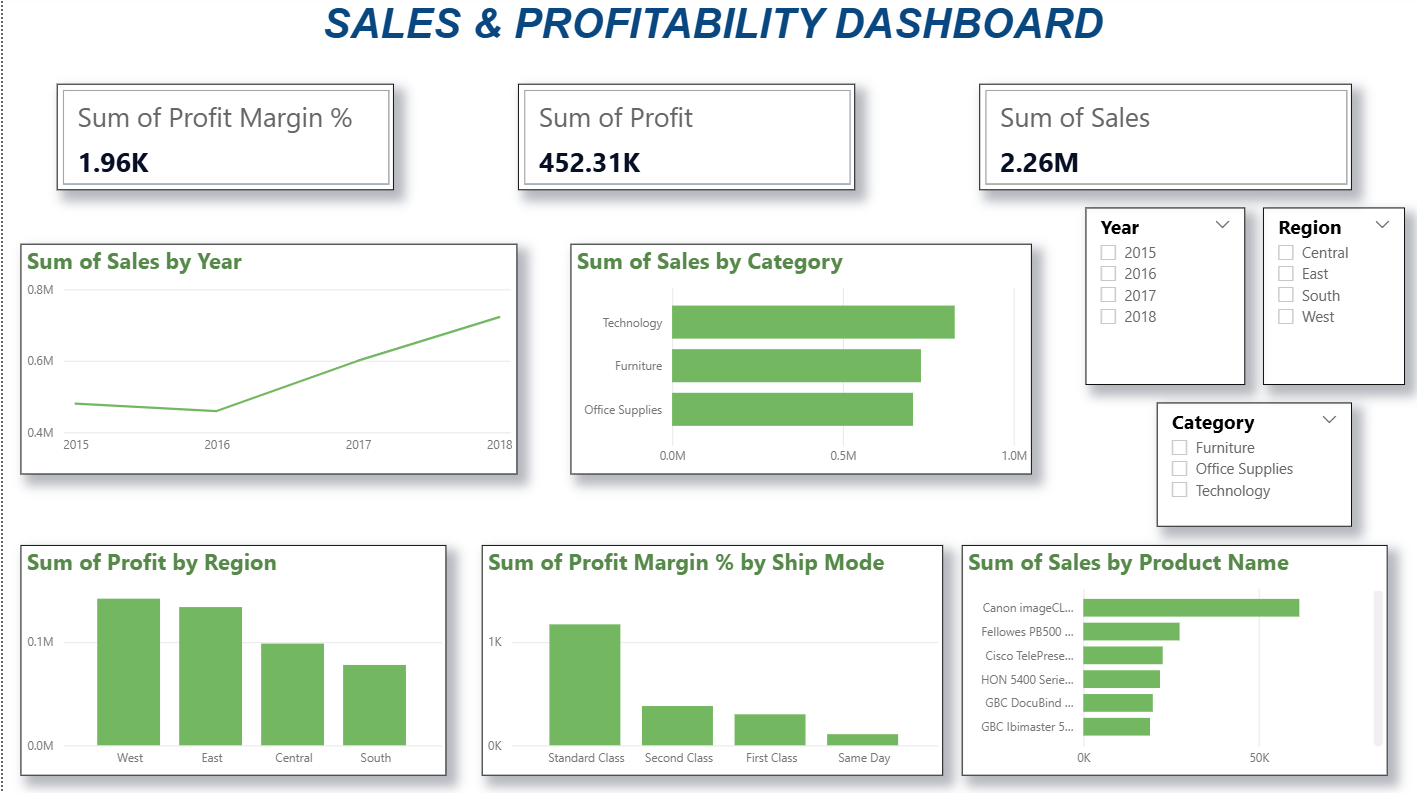

This screenshot's page, from the dashboard's own definition file:
{"tool":"powerbi","page":{"name":"Page 1","canvas":[1280,720],"ordinal":0},"visuals":[{"type":"cardVisual","fields":{"Data":["Sum(train.Sales)"]},"box":[880,80,336,96],"z":0},{"type":"cardVisual","fields":{"Data":["Sum(train.Profit)"]},"box":[464,80,304,96],"z":1000},{"type":"cardVisual","fields":{"Data":["Sum(train.Profit Margin %)"]},"box":[48,80,304,96],"z":2000},{"type":"clusteredBarChart","fields":{"Category":["train.Category"],"Y":["Sum(train.Sales)"]},"box":[512,224,416,208],"z":3000},{"type":"clusteredColumnChart","fields":{"Category":["train.Region"],"Y":["Sum(train.Profit)"]},"box":[16,496,384,208],"z":4000},{"type":"lineChart","fields":{"Category":["train.Order Date.Variation.Date Hierarchy.Year","train.Order Date.Variation.Date Hierarchy.Quarter","train.Order Date.Variation.Date Hierarchy.Month","train.Order Date.Variation.Date Hierarchy.Day"],"Y":["Sum(train.Sales)"]},"box":[16,224,448,208],"z":5000},{"type":"barChart","fields":{"Category":["train.Product Name"],"Y":["Sum(train.Sales)"]},"box":[864,496,384,208],"z":6000},{"type":"textbox","box":[0,0,1280,72],"z":7000},{"type":"slicer","fields":{"Values":["train.Order Date.Variation.Date Hierarchy.Year"]},"box":[976,192,144,160],"z":8000},{"type":"slicer","fields":{"Values":["train.Region"]},"box":[1136,192,128,160],"z":10000},{"type":"slicer","fields":{"Values":["train.Category"]},"box":[1040,368,176,112],"z":11000},{"type":"clusteredColumnChart","fields":{"Y":["Sum(train.Profit Margin %)"],"Category":["train.Ship Mode"]},"box":[432,496,416,208],"z":12000}]}

Visuals, with their boxes in screenshot pixels (x1, y1, x2, y2), scaled from the page's 1280x720 canvas onto the 1417x793 screenshot:
cardVisual - Sum(train.Sales): bbox=(974, 88, 1346, 194)
cardVisual - Sum(train.Profit): bbox=(514, 88, 850, 194)
cardVisual - Sum(train.Profit Margin %): bbox=(53, 88, 390, 194)
clusteredBarChart - train.Category x Sum(train.Sales): bbox=(567, 247, 1027, 476)
clusteredColumnChart - train.Region x Sum(train.Profit): bbox=(18, 546, 443, 775)
lineChart - train.Order Date.Variation.Date Hierarchy.Year x train.Order Date.Variation.Date Hierarchy.Quarter: bbox=(18, 247, 514, 476)
barChart - train.Product Name x Sum(train.Sales): bbox=(956, 546, 1382, 775)
textbox: bbox=(0, 0, 1416, 79)
slicer - train.Order Date.Variation.Date Hierarchy.Year: bbox=(1080, 211, 1240, 388)
slicer - train.Region: bbox=(1258, 211, 1399, 388)
slicer - train.Category: bbox=(1151, 405, 1346, 529)
clusteredColumnChart - Sum(train.Profit Margin %) x train.Ship Mode: bbox=(478, 546, 939, 775)
